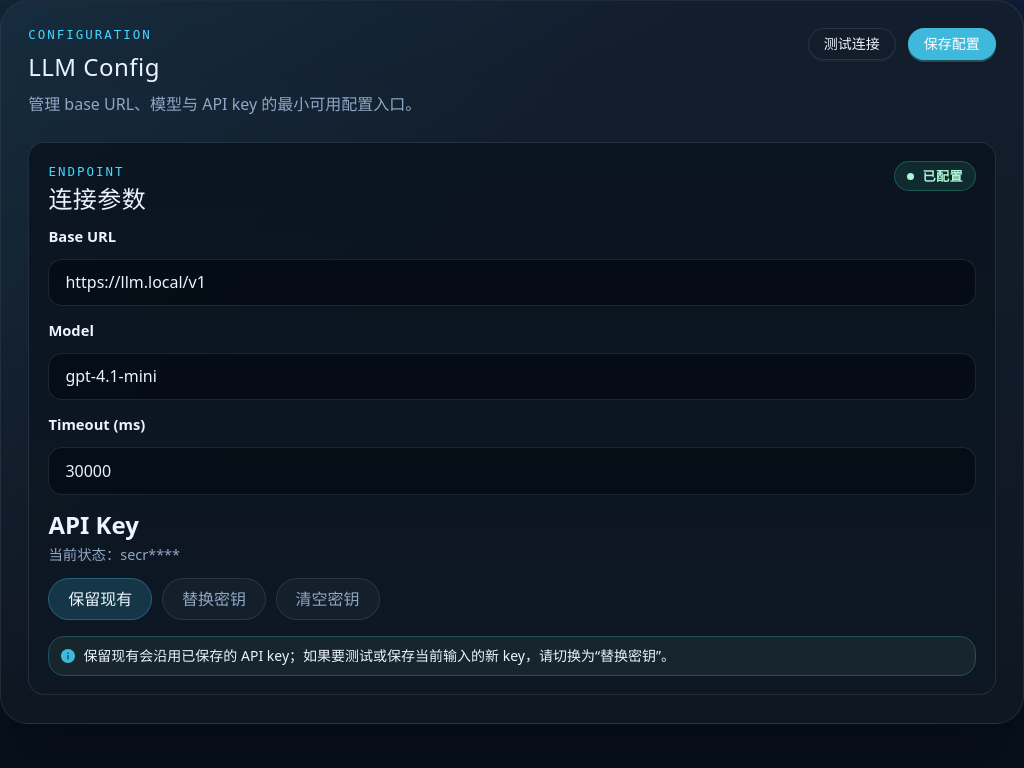
Scenario: llm config page blocks connection test in keep-secret mode
Click the button "测试连接": (852, 44) [808,28,896,60]
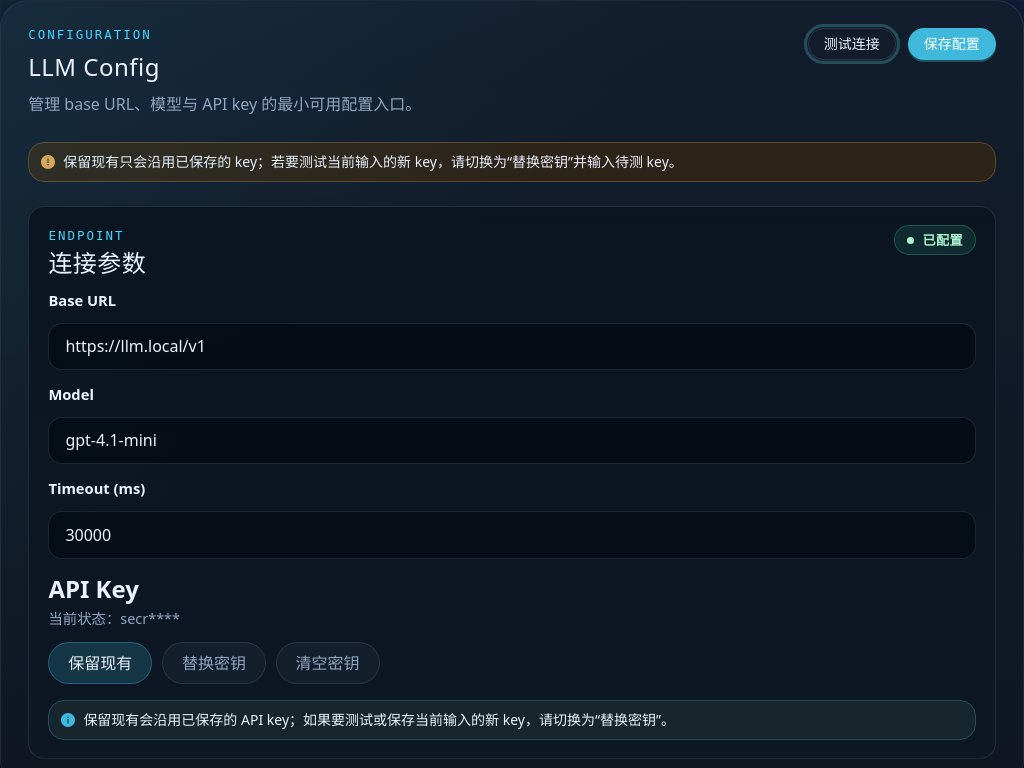
Expected: the text "保留现有只会沿用已保存的 key；若要测试当前输入的新 key，请切换为“替换密钥”并输入待测 key。" is shown, [63,152,683,171]
